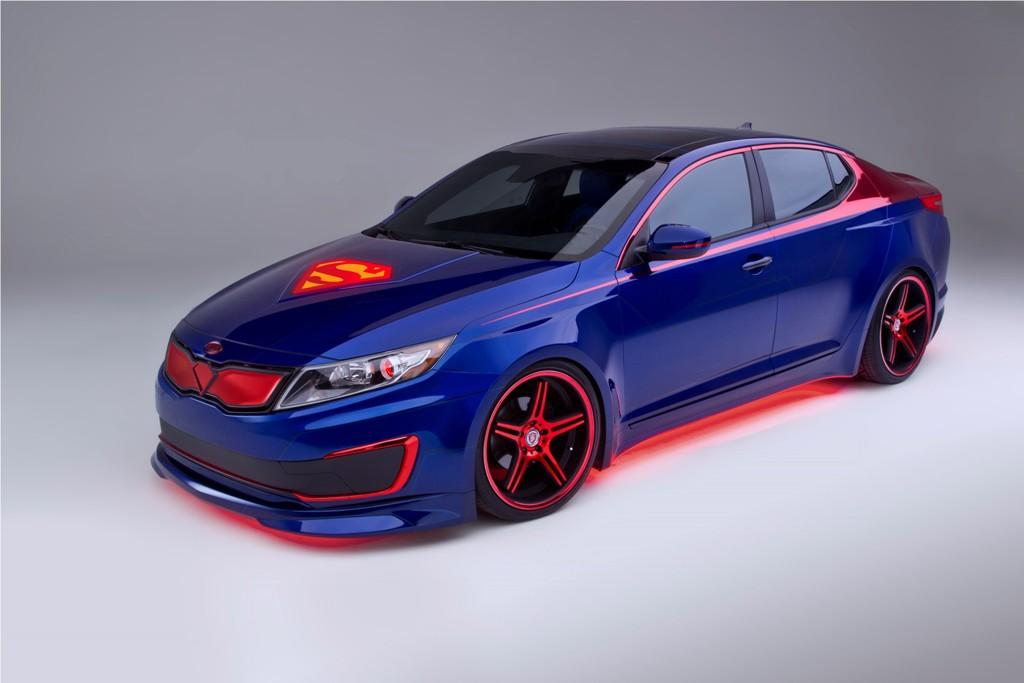small: (150, 121, 952, 547)
